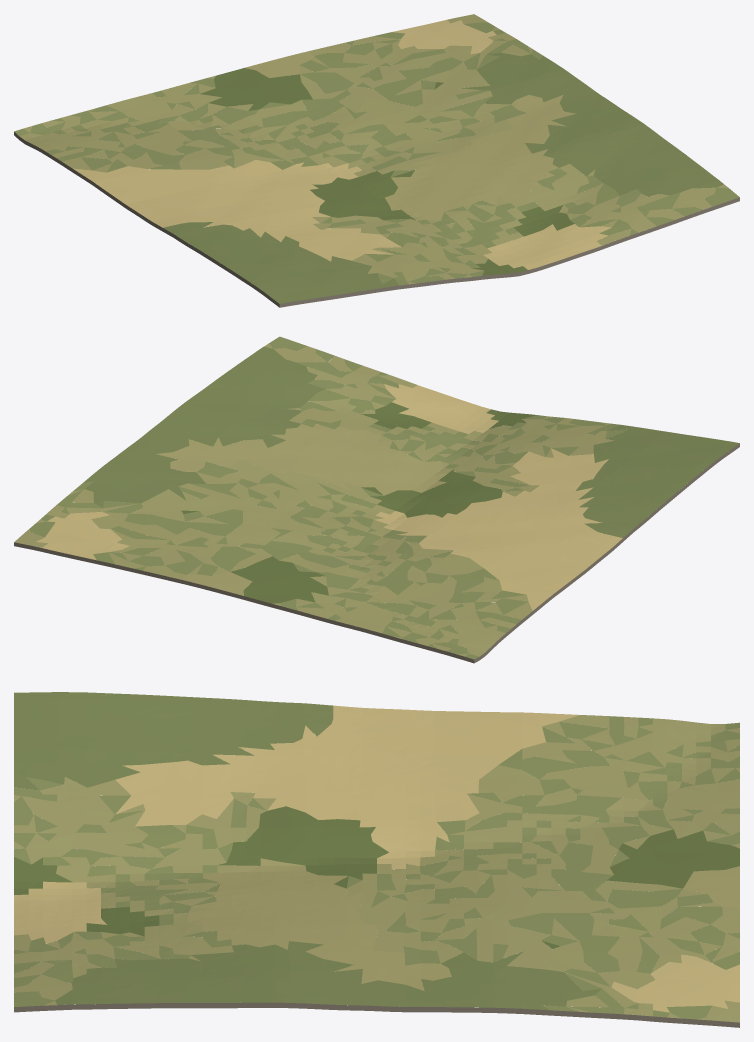
File: parca_+2_-3-uzak.glb
3 renders of one model, top to bottom at view 1: azimuth 30°, elevation 25°; view 2: azimuth 150°, elevation 25°; view 3: azimuth 270°, elevation 25°, orthographic. The views are drawn at different scales.
Visible parts, largest first — view 1: parca_+2_-3_arazi_uzak; view 2: parca_+2_-3_arazi_uzak; view 3: parca_+2_-3_arazi_uzak.
Boxes of the visible parts, x1,y1,x2,y2 form: parca_+2_-3_arazi_uzak: [14, 14, 739, 307]; parca_+2_-3_arazi_uzak: [14, 336, 739, 663]; parca_+2_-3_arazi_uzak: [14, 692, 739, 1027].
Bounding box in the file's own units: 1000 × 64.64 × 1000.
